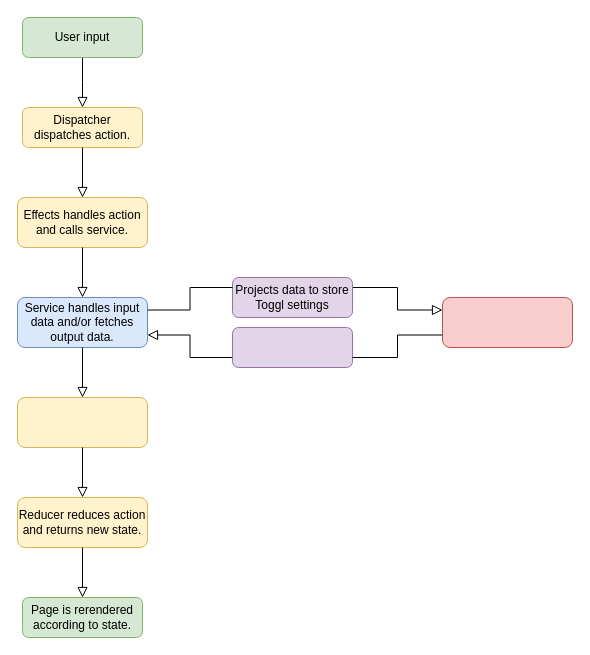
Image size: 590x655. Some labels were removed from this diagram. The shapes that lost their labels are listed below. From the top down, each one's centre as x and y in pixels, then its label:
At [507,322]: "DataManager Toggl API".
At [292,347]: "Projects data to display".
At [82,422]: "Effects takes output data if present and dispatches new action.".
